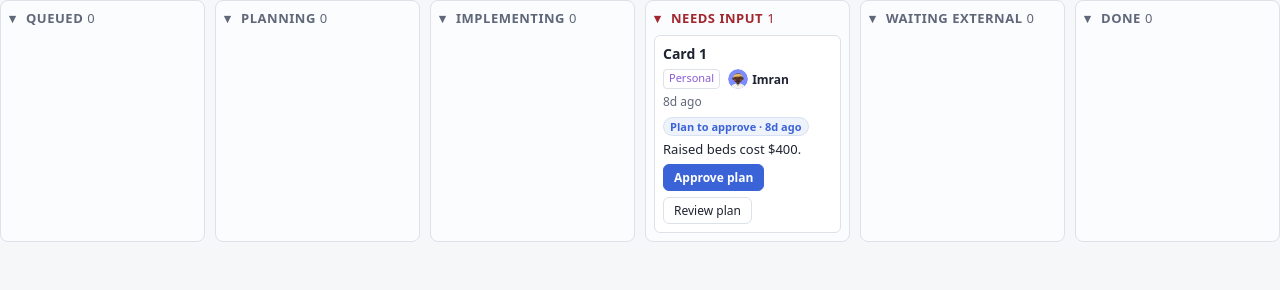
it: board card: plan approval (06 §Plan approval) › a rejected Approve plan shows the error
Click the button "Approve plan": (714, 178) [663, 164, 764, 191]
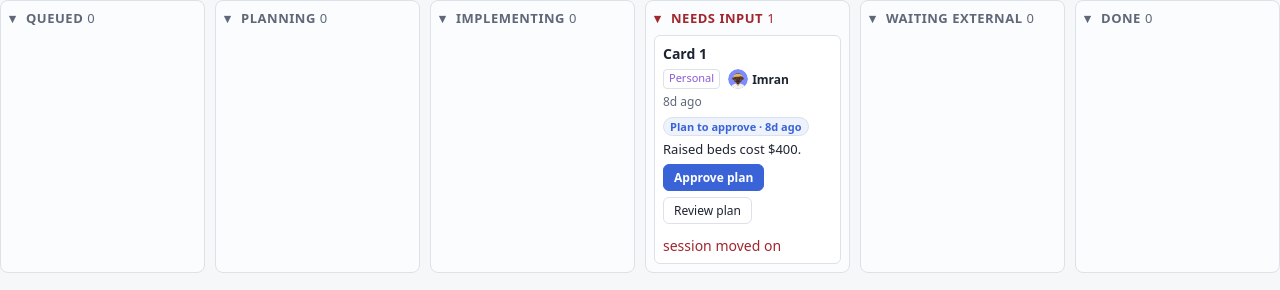
Result: the message reads "session moved on" at [663, 236, 781, 255]
